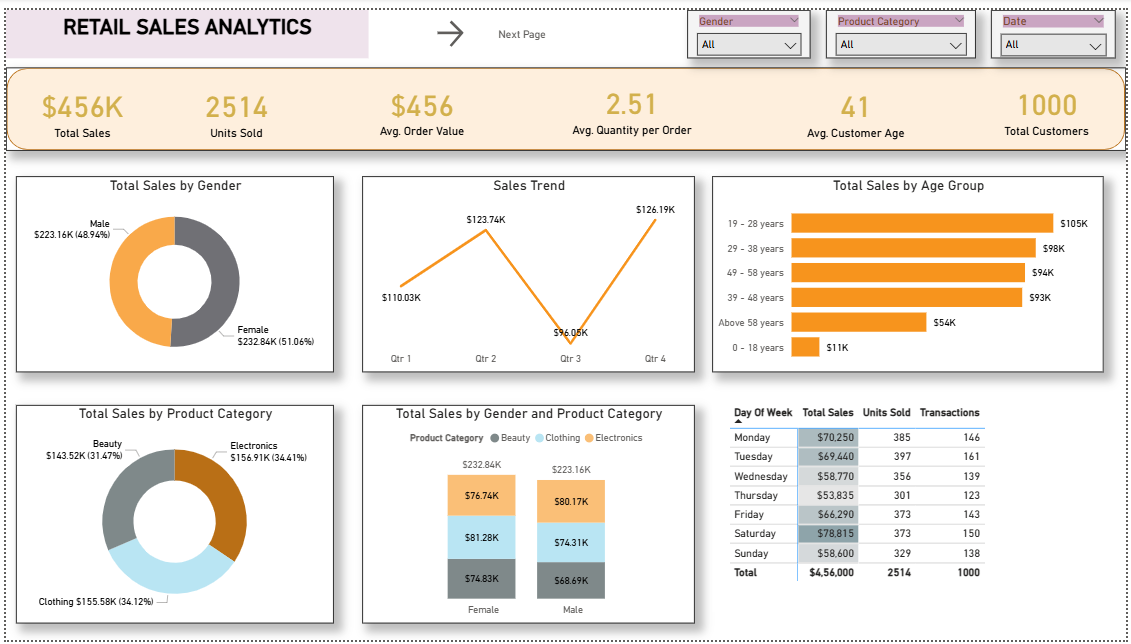

This screenshot's page, from the dashboard's own definition file:
{"tool":"powerbi","page":{"name":"Sales_Analytics","canvas":[1280,720],"ordinal":0},"visuals":[{"type":"shape","box":[0,66.4,1280,95.3],"z":0},{"type":"textbox","box":[0,0,414.5,55],"z":1000},{"type":"card","fields":{"Values":["Measures Table.Total Sales"]},"box":[10.9,68.8,152,95.3],"z":2000},{"type":"card","fields":{"Values":["Measures Table.Total Customers"]},"box":[1113.5,65.1,153.2,95.3],"z":3000},{"type":"card","fields":{"Values":["Measures Table.AOV"]},"box":[374,65.1,202.7,96.5],"z":4000},{"type":"pieChart","fields":{"Category":["Retail_sales.Product Category"],"Y":["Measures Table.Total Sales"]},"box":[10.9,451.2,363.1,249.7],"z":5000},{"type":"lineChart","title":"Sales Trend","fields":{"Category":["Retail_sales.Date.Variation.Date Hierarchy.Year","Retail_sales.Date.Variation.Date Hierarchy.Quarter","Retail_sales.Date.Variation.Date Hierarchy.Month","Retail_sales.Date.Variation.Date Hierarchy.Day"],"Y":["Measures Table.Total Sales"]},"box":[406.6,189.4,380,224.4],"z":6000},{"type":"columnChart","fields":{"Y":["Measures Table.Total Sales"],"Category":["Retail_sales.Gender"],"Series":["Retail_sales.Product Category"]},"box":[406.6,451.2,380,249.7],"z":7000},{"type":"slicer","fields":{"Values":["Retail_sales.Date.Variation.Date Hierarchy.Year","Retail_sales.Date.Variation.Date Hierarchy.Quarter","Retail_sales.Date.Variation.Date Hierarchy.Month","Retail_sales.Date.Variation.Date Hierarchy.Day"]},"box":[1125,0,142.5,55],"z":8000},{"type":"slicer","fields":{"Values":["Retail_sales.Product Category"]},"box":[937.4,0,171.3,55.5],"z":9000},{"type":"card","fields":{"Values":["Measures Table.Avg. Quantity per Transaction"]},"box":[605.6,65.1,219.6,92.9],"z":10000},{"type":"card","fields":{"Values":["Measures Table.Average Age"]},"box":[865,68.8,211.1,95.3],"z":11000},{"type":"donutChart","fields":{"Category":["Retail_sales.Gender"],"Y":["Measures Table.Total Sales"]},"box":[10.9,189.4,363.1,224.4],"z":12000},{"type":"actionButton","box":[487.5,7.5,133.8,40],"z":13000},{"type":"slicer","fields":{"Values":["Retail_sales.Gender"]},"box":[778.2,0,141.2,55.5],"z":14000},{"type":"card","fields":{"Values":["Measures Table.Total Quantity"]},"box":[193,70,141.2,91.7],"z":15000},{"type":"clusteredBarChart","fields":{"Category":["Retail_sales.Age Group"],"Y":["Measures Table.Total Sales"]},"box":[807.1,189.4,447.6,224.4],"z":16000},{"type":"pivotTable","fields":{"Rows":["Retail_sales.Day Name"],"Values":["Measures Table.Total Sales","Measures Table.Total Quantity","Measures Table.Total Transactions"]},"box":[807.1,439.1,447.6,249.7],"z":17000}]}

Visuals, with their boxes in screenshot pixels (x1, y1, x2, y2), scaled from the page's 1280x720 canvas onto the 1131x644 screenshot:
shape: <box>0,59,1130,145</box>
textbox: <box>0,0,366,49</box>
card - Measures Table.Total Sales: <box>10,62,144,147</box>
card - Measures Table.Total Customers: <box>984,58,1119,143</box>
card - Measures Table.AOV: <box>330,58,510,145</box>
pieChart - Retail_sales.Product Category x Measures Table.Total Sales: <box>10,404,330,627</box>
"Sales Trend" lineChart: <box>359,169,695,370</box>
columnChart - Measures Table.Total Sales x Retail_sales.Gender: <box>359,404,695,627</box>
slicer - Retail_sales.Date.Variation.Date Hierarchy.Year x Retail_sales.Date.Variation.Date Hierarchy.Quarter: <box>994,0,1120,49</box>
slicer - Retail_sales.Product Category: <box>828,0,980,50</box>
card - Measures Table.Avg. Quantity per Transaction: <box>535,58,729,141</box>
card - Measures Table.Average Age: <box>764,62,951,147</box>
donutChart - Retail_sales.Gender x Measures Table.Total Sales: <box>10,169,330,370</box>
actionButton: <box>431,7,549,42</box>
slicer - Retail_sales.Gender: <box>688,0,812,50</box>
card - Measures Table.Total Quantity: <box>171,63,295,145</box>
clusteredBarChart - Retail_sales.Age Group x Measures Table.Total Sales: <box>713,169,1109,370</box>
pivotTable - Retail_sales.Day Name x Measures Table.Total Sales: <box>713,393,1109,616</box>
